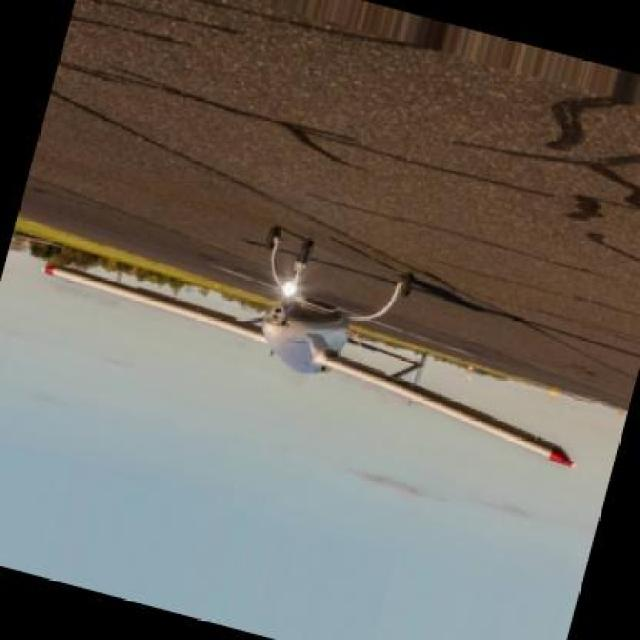iha: (42, 210, 580, 472)
